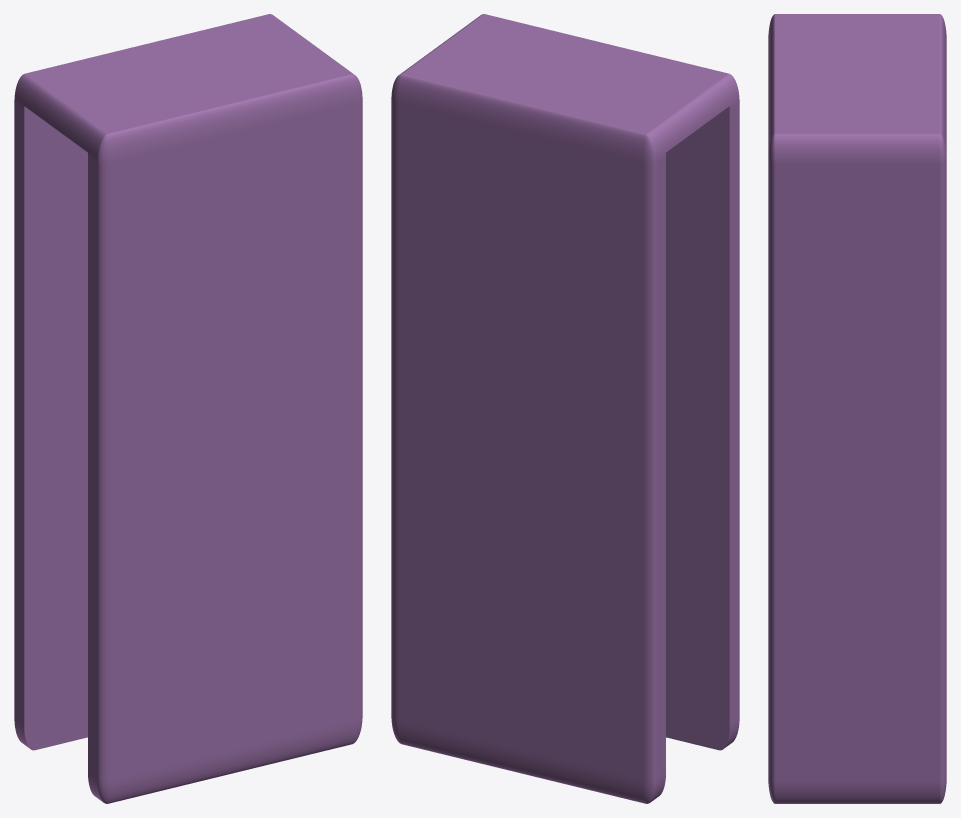
File: spacer_cube_riser_360.glb
The picture shows the model from 3 angles, left to right: view 1: azimuth 30°, elevation 25°; view 2: azimuth 150°, elevation 25°; view 3: azimuth 270°, elevation 25°; orthographic projection.
Parts seen in each view (by area): view 1: Mesh_Mesh_head_geo.001_lambert2SG.001; view 2: Mesh_Mesh_head_geo.001_lambert2SG.001; view 3: Mesh_Mesh_head_geo.001_lambert2SG.001.
Boxes of the visible parts, x1,y1,x2,y2 form: Mesh_Mesh_head_geo.001_lambert2SG.001: [14, 14, 362, 803]; Mesh_Mesh_head_geo.001_lambert2SG.001: [391, 14, 739, 803]; Mesh_Mesh_head_geo.001_lambert2SG.001: [768, 14, 946, 803].
Bounding box in the file's own units: 0.0381 × 0.0921 × 0.0222.
